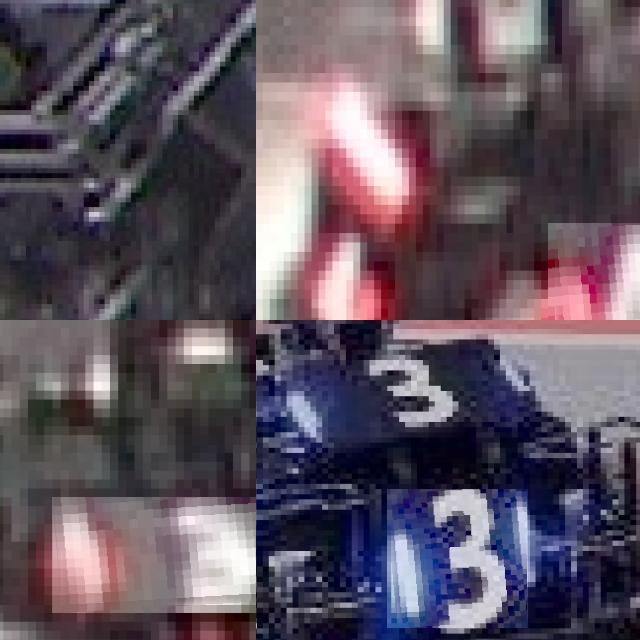B3: (269, 350, 541, 437), (388, 489, 530, 628)
R3: (52, 497, 256, 612)
R4: (283, 223, 388, 320), (548, 223, 640, 320)
